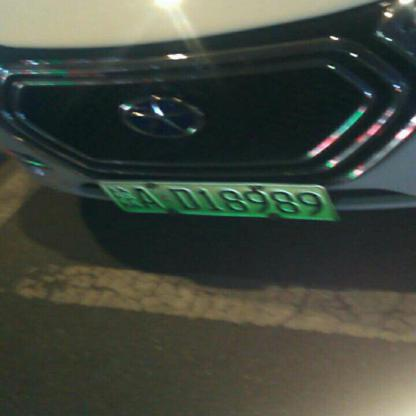lp: (102, 184, 338, 219)
